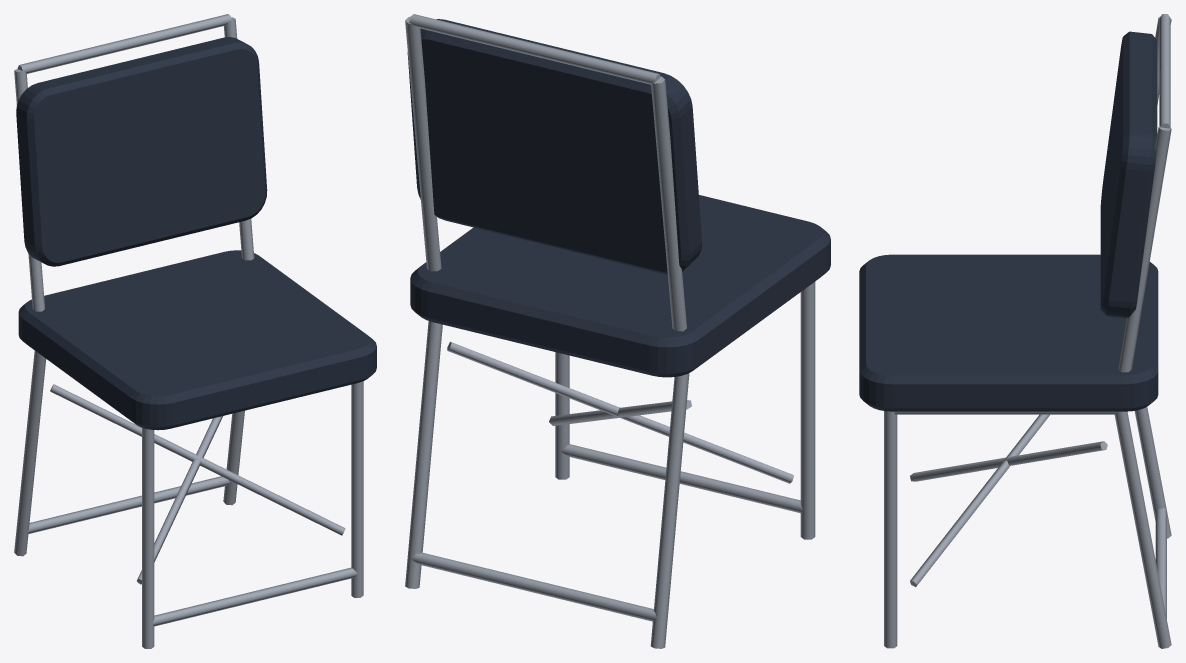
The model's file is chair.glb.
3 views of the same model, side by side, from view 1: azimuth 30°, elevation 25°; view 2: azimuth 150°, elevation 25°; view 3: azimuth 270°, elevation 25° (orthographic). The views are drawn at different scales.
Visible parts, largest first — view 1: seat, leg; view 2: seat, leg; view 3: seat, leg.
Boxes of the visible parts, x1,y1,x2,y2 form: seat: (16,37,376,430); leg: (14,14,363,648); seat: (407,19,830,377); leg: (405,14,815,648); seat: (859,31,1158,411); leg: (884,14,1171,648).
Bounding box in the file's own units: 1.57 × 3.03 × 1.64.
